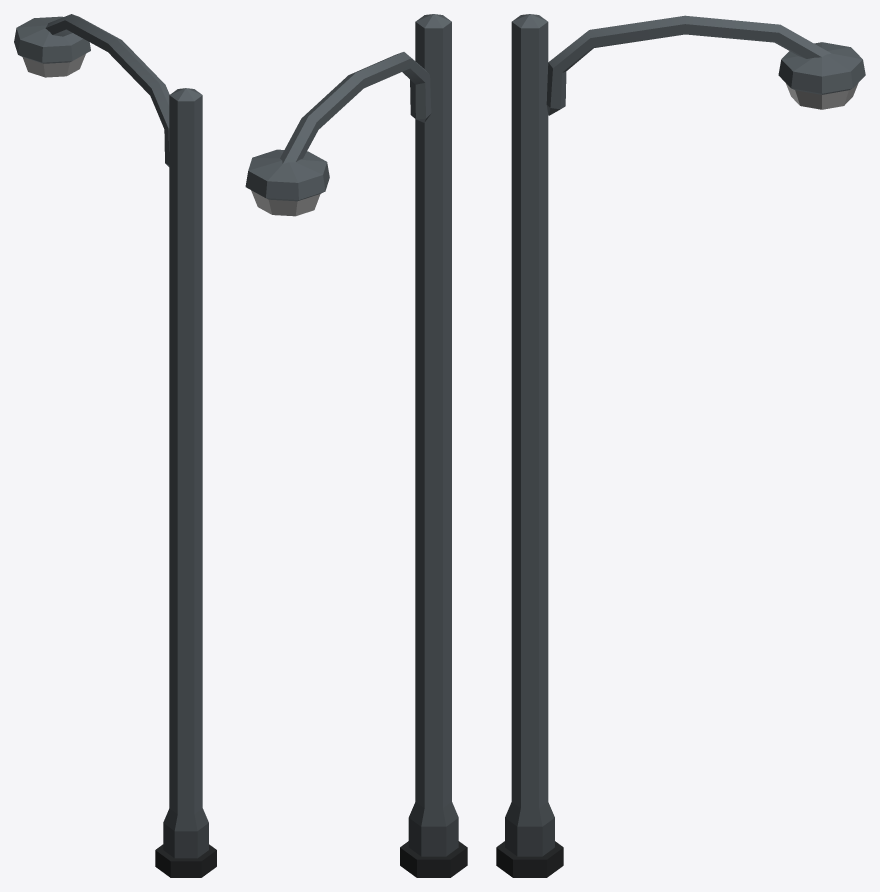
The model's file is Streetlamp_13.gltf.
3 renders of one model, left to right at view 1: azimuth 30°, elevation 25°; view 2: azimuth 150°, elevation 25°; view 3: azimuth 270°, elevation 25°, orthographic. The views are drawn at different scales.
Visible parts, largest first — view 1: Streetlamp_13; view 2: Streetlamp_13; view 3: Streetlamp_13.
Boxes of the visible parts, x1,y1,x2,y2 form: Streetlamp_13: [14, 14, 216, 877]; Streetlamp_13: [245, 14, 467, 877]; Streetlamp_13: [496, 14, 865, 877].
Bounding box in the file's own units: 0.0883 × 0.9496 × 0.3735.
Materials: 1 (1 with a texture image).
